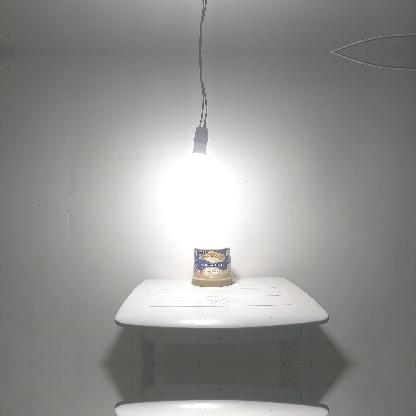Lady-s-Choice: (192, 243, 234, 287)
